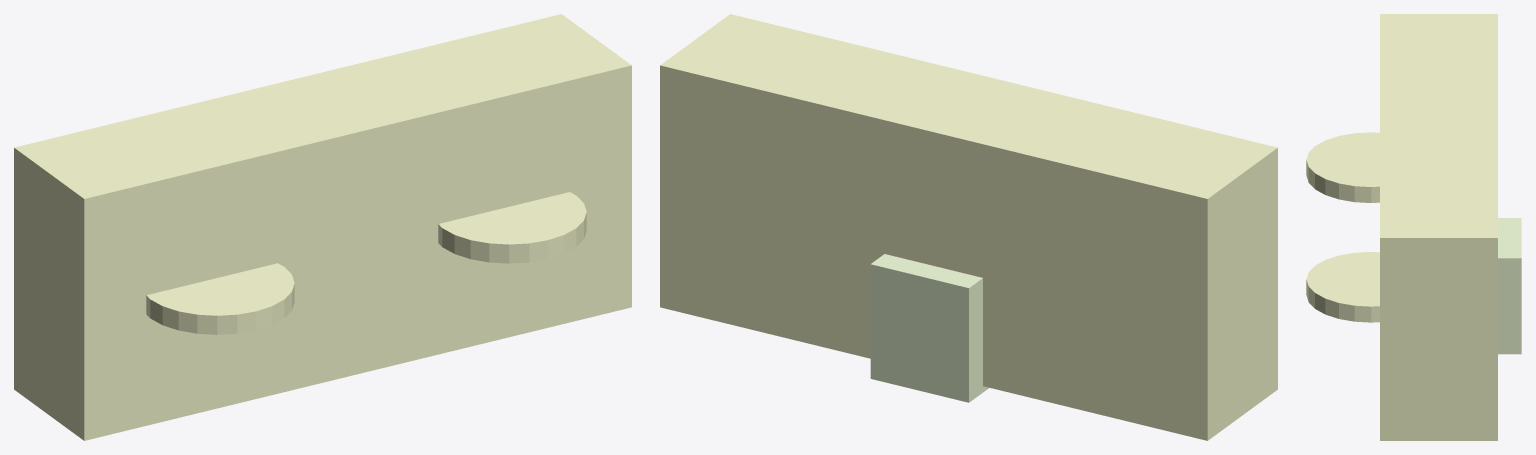
The model's file is signal_rail_crossing_dual_red_horizontal.glb.
3 views of the same model, side by side, from view 1: azimuth 30°, elevation 25°; view 2: azimuth 150°, elevation 25°; view 3: azimuth 270°, elevation 25° (orthographic). The views are drawn at different scales.
Visible parts, largest first — view 1: housing, lens_rail_right, lens_rail_left; view 2: housing, bracket; view 3: housing, lens_rail_left, lens_rail_right, bracket.
Part boxes in pixels (bbox=[...]): housing: bbox=[14, 14, 631, 440]; lens_rail_right: bbox=[438, 192, 586, 263]; lens_rail_left: bbox=[146, 263, 294, 334]; housing: bbox=[660, 14, 1277, 440]; bracket: bbox=[870, 254, 989, 402]; housing: bbox=[1380, 14, 1497, 440]; lens_rail_left: bbox=[1306, 132, 1379, 202]; lens_rail_right: bbox=[1306, 252, 1379, 322]; bracket: bbox=[1498, 218, 1521, 354].
Bounding box in the file's own units: 0.9 × 0.39 × 0.365.
